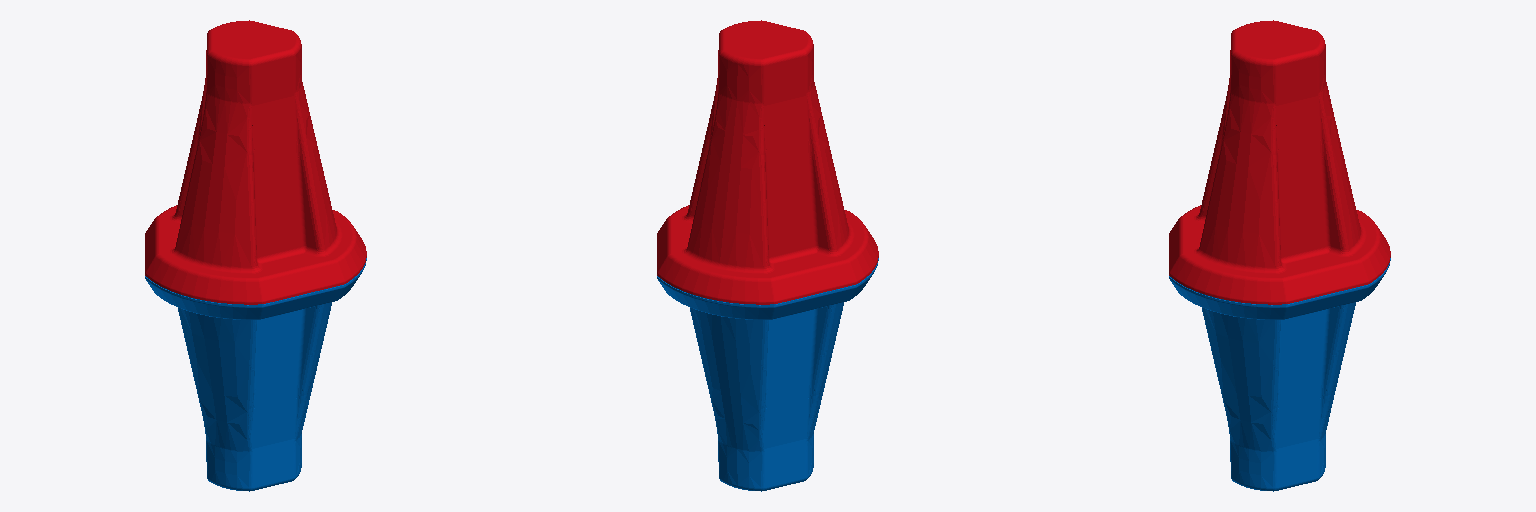
robot.urdf — override_pin_red_blue:
<?xml version='1.0' encoding='utf-8'?>
<robot name="override_pin_red_blue">
  <link name="pin">
    <inertial>
      <mass value="0.075" />
      <origin xyz="0 0 0" rpy="0 0 0" />
      <inertia ixx="0.000183825" iyy="0.000183825" izz="0.000183825" ixy="0" ixz="0" iyz="0" />
    </inertial>
    <visual>
      <geometry>
        <mesh filename="../meshes/override/pin_upper.obj" />
      </geometry>
      <material name=".._meshes_override_pin_upper.obj">
        <color rgba=".82 .08 .13 1" />
      </material>
    </visual>
    <visual>
      <geometry>
        <mesh filename="../meshes/override/pin_lower.obj" />
      </geometry>
      <material name=".._meshes_override_pin_lower.obj">
        <color rgba=".02 .48 .83 1" />
      </material>
    </visual>
    <collision>
      <geometry>
        <mesh filename="pin_root_-1_band_0.stl" />
      </geometry>
    </collision>
    <collision>
      <geometry>
        <mesh filename="pin_root_-1_band_1.stl" />
      </geometry>
    </collision>
    <collision>
      <geometry>
        <mesh filename="pin_root_-1_band_2.stl" />
      </geometry>
    </collision>
    <collision>
      <geometry>
        <mesh filename="pin_root_-1_band_3.stl" />
      </geometry>
    </collision>
    <collision>
      <geometry>
        <mesh filename="pin_root_1_band_0.stl" />
      </geometry>
    </collision>
    <collision>
      <geometry>
        <mesh filename="pin_root_1_band_1.stl" />
      </geometry>
    </collision>
    <collision>
      <geometry>
        <mesh filename="pin_root_1_band_2.stl" />
      </geometry>
    </collision>
    <collision>
      <geometry>
        <mesh filename="pin_root_1_band_3.stl" />
      </geometry>
    </collision>
    <collision>
      <geometry>
        <mesh filename="pin_taper_-1.stl" />
      </geometry>
    </collision>
    <collision>
      <geometry>
        <mesh filename="pin_taper_1.stl" />
      </geometry>
    </collision>
    <collision>
      <geometry>
        <mesh filename="pin_tip_-1.stl" />
      </geometry>
    </collision>
    <collision>
      <geometry>
        <mesh filename="pin_tip_1.stl" />
      </geometry>
    </collision>
    <collision>
      <geometry>
        <mesh filename="pin_flange.stl" />
      </geometry>
    </collision>
  </link>
</robot>

--- Render facts (derived) ---
Views: 3 orthographic renders of the robot side by side, from view 1: azimuth 30°, elevation 25°; view 2: azimuth 150°, elevation 25°; view 3: azimuth 270°, elevation 25°.
Model override_pin_red_blue with 1 links and 0 joints (none), rooted at pin, posed every joint at zero.
Links seen in each view (by area): view 1: pin; view 2: pin; view 3: pin.
Link boxes in pixels (<box>): pin: <box>145,20,366,491</box>; pin: <box>657,20,878,491</box>; pin: <box>1169,20,1390,491</box>.
Size in the robot's own frame: 0.0803 by 0.0768 by 0.165 metres.
Meshes: 2 distinct files referenced, 2 mesh visuals loaded (2 OBJ).
